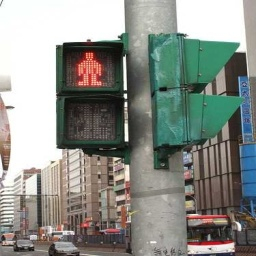traffic light: (148, 33, 244, 170), (54, 36, 125, 150)
